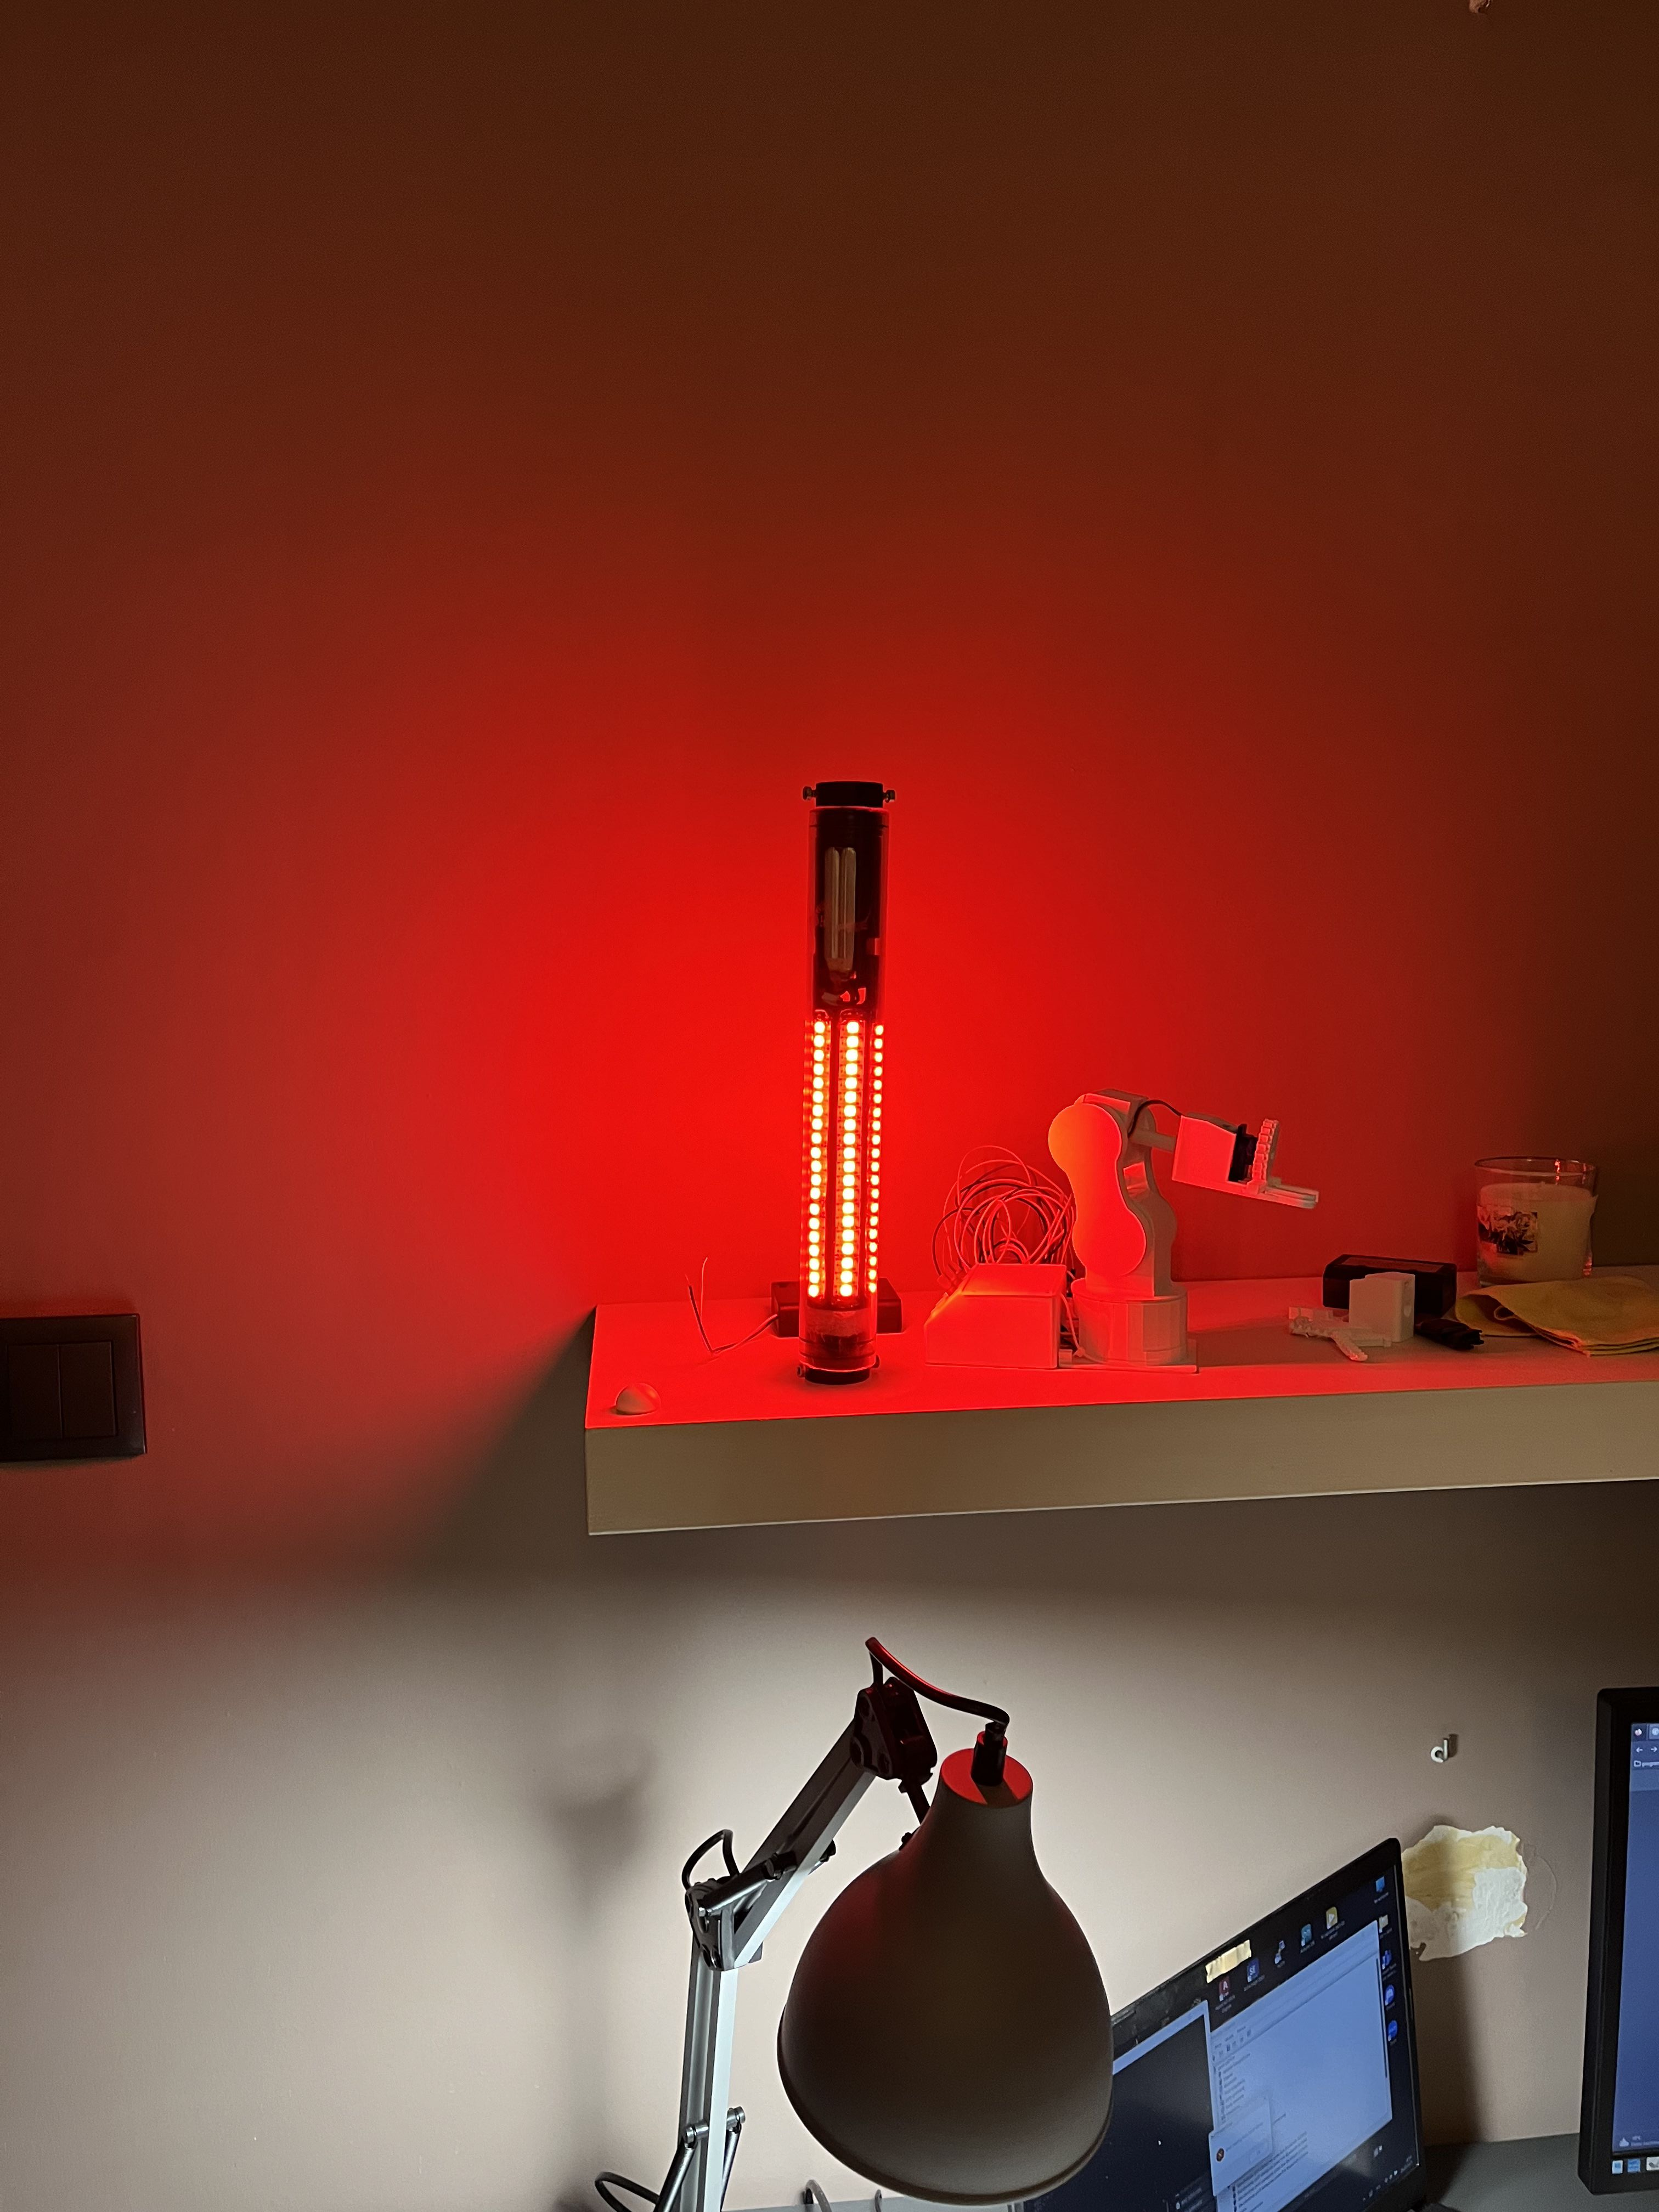red: (798, 813, 882, 1374)
